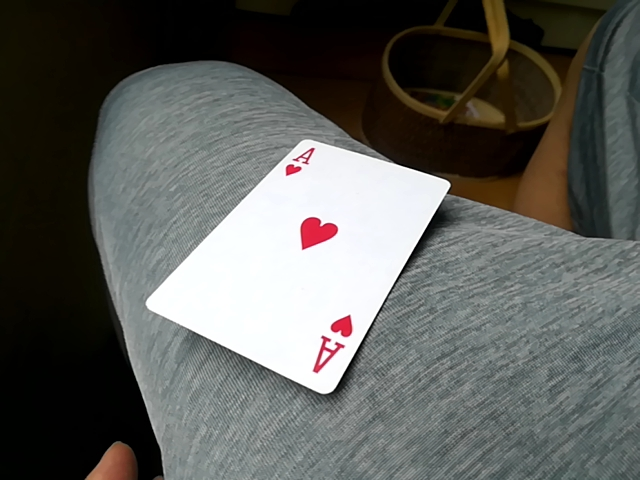hx a: (144, 133, 453, 395)
